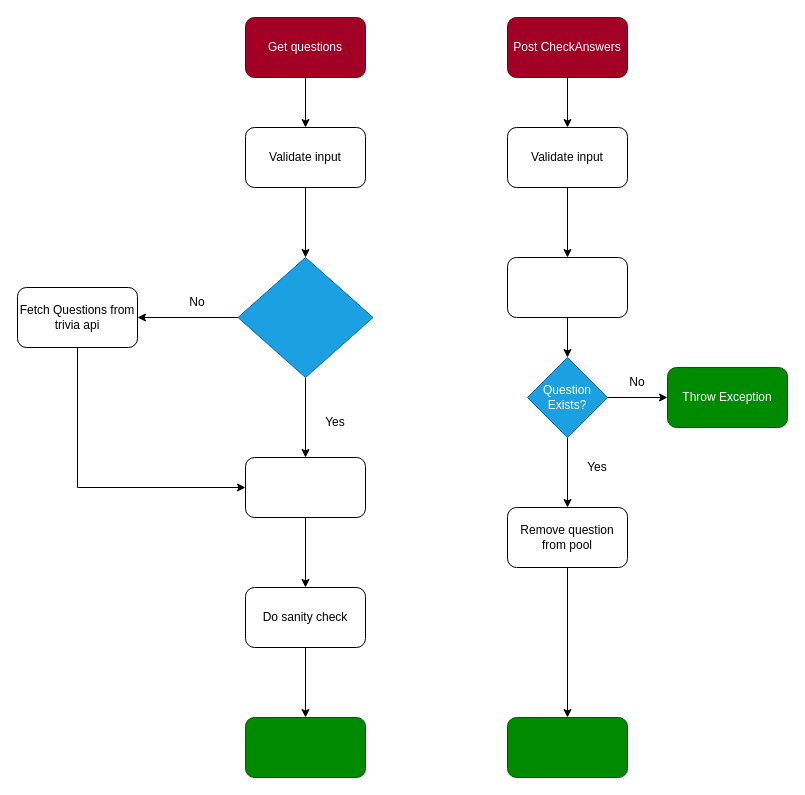
The diagram is 805 pixels wide and 795 high, and some of its shapes have lost their labels. Each missing label, with the centre of its shape:
Get questions from pool: pixel 305 487
Lookup question by ID: pixel 567 287
Pool has more than 5 questions?: pixel 305 317
Return evaluated result: pixel 567 747
Return questions: pixel 305 747
